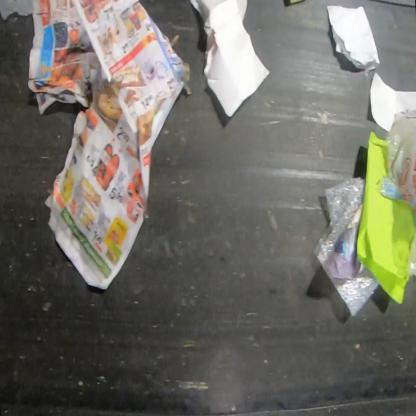soft_plastic: (312, 175, 380, 319), (374, 108, 416, 282)
